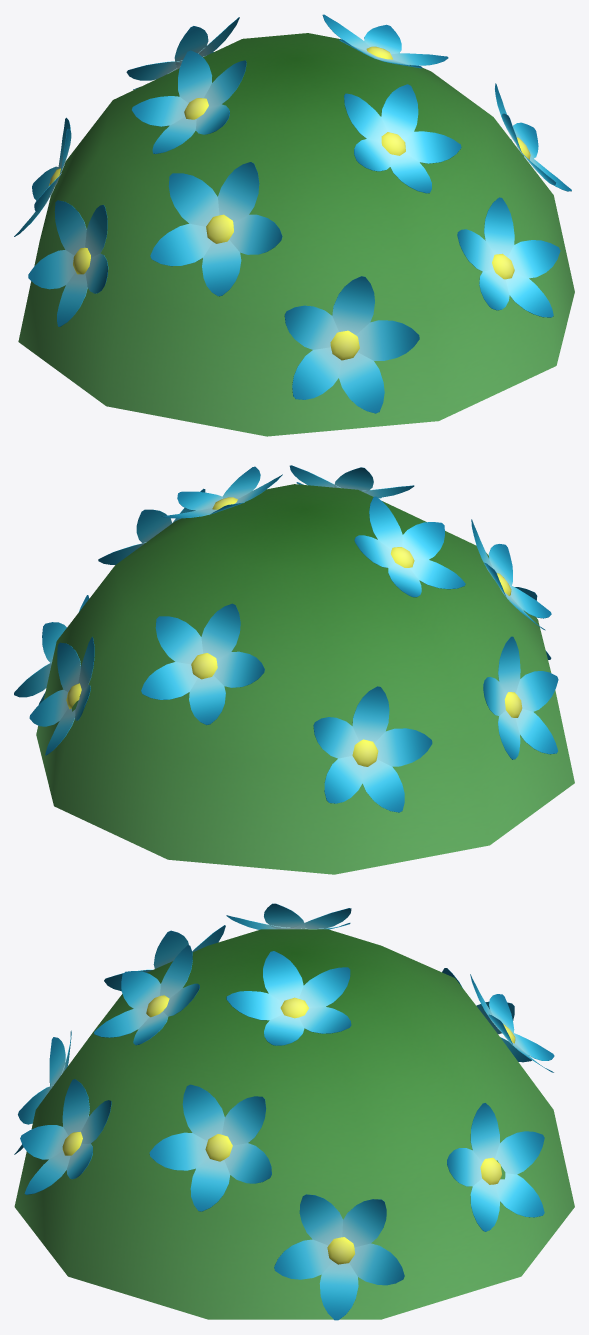
The model's file is Bush_Blue.fbx.
3 renders of one model, top to bottom at view 1: azimuth 30°, elevation 25°; view 2: azimuth 150°, elevation 25°; view 3: azimuth 270°, elevation 25°, orthographic. The views are drawn at different scales.
Visible parts, largest first — view 1: pasted__Bush, pasted__Plane.017Shape3, pasted__Plane.017Shape2, pasted__Flower3, pasted__Flower4, pasted__Flower1, pasted__Flower, pasted__Flower2, pasted__Plane.017Shape4, pasted__Flower5, pasted__Plane.017Shape1; view 2: pasted__Bush, pasted__Plane.017Shape1, pasted__Plane.017Shape4, pasted__Flower1, pasted__Flower, pasted__Plane.017Shape5, pasted__Flower2, pasted__Plane.017Shape2, pasted__Flower3, pasted__Flower6, pasted__Flower5; view 3: pasted__Bush, pasted__Flower6, pasted__Flower5, pasted__Plane.017Shape5, pasted__Flower2, pasted__Flower4, pasted__Flower3, pasted__Flower1, pasted__Plane.017Shape4, pasted__Plane.017Shape2, pasted__Plane.017Shape3, pasted__Plane.017Shape1.
Part boxes in pixels (<box>): pasted__Bush: <box>18,33,574,436</box>; pasted__Plane.017Shape3: <box>284,276,419,413</box>; pasted__Plane.017Shape2: <box>150,162,282,296</box>; pasted__Flower3: <box>344,84,461,193</box>; pasted__Flower4: <box>457,197,560,317</box>; pasted__Flower1: <box>132,50,246,153</box>; pasted__Flower: <box>28,200,108,326</box>; pasted__Flower2: <box>322,14,448,68</box>; pasted__Plane.017Shape4: <box>126,17,239,89</box>; pasted__Flower5: <box>495,83,571,191</box>; pasted__Plane.017Shape1: <box>14,117,71,236</box>; pasted__Bush: <box>36,484,574,874</box>; pasted__Plane.017Shape1: <box>313,686,432,812</box>; pasted__Plane.017Shape4: <box>141,603,264,724</box>; pasted__Flower1: <box>354,496,465,597</box>; pasted__Flower: <box>483,636,558,759</box>; pasted__Plane.017Shape5: <box>29,637,94,755</box>; pasted__Flower2: <box>161,466,282,518</box>; pasted__Plane.017Shape2: <box>471,519,551,630</box>; pasted__Flower3: <box>289,465,414,498</box>; pasted__Flower6: <box>14,595,89,704</box>; pasted__Flower5: <box>98,488,205,564</box>; pasted__Bush: <box>14,929,574,1319</box>; pasted__Flower6: <box>274,1194,404,1320</box>; pasted__Flower5: <box>149,1084,271,1211</box>; pasted__Plane.017Shape5: <box>447,1103,544,1231</box>; pasted__Flower2: <box>226,951,351,1045</box>; pasted__Flower4: <box>20,1079,111,1194</box>; pasted__Flower3: <box>94,945,199,1045</box>; pasted__Flower1: <box>226,903,351,929</box>; pasted__Plane.017Shape4: <box>470,974,554,1072</box>; pasted__Plane.017Shape2: <box>104,925,225,991</box>; pasted__Plane.017Shape3: <box>14,1030,71,1154</box>; pasted__Plane.017Shape1: <box>442,968,531,1062</box>.
Bounding box in the file's own units: 204 × 108 × 200.
